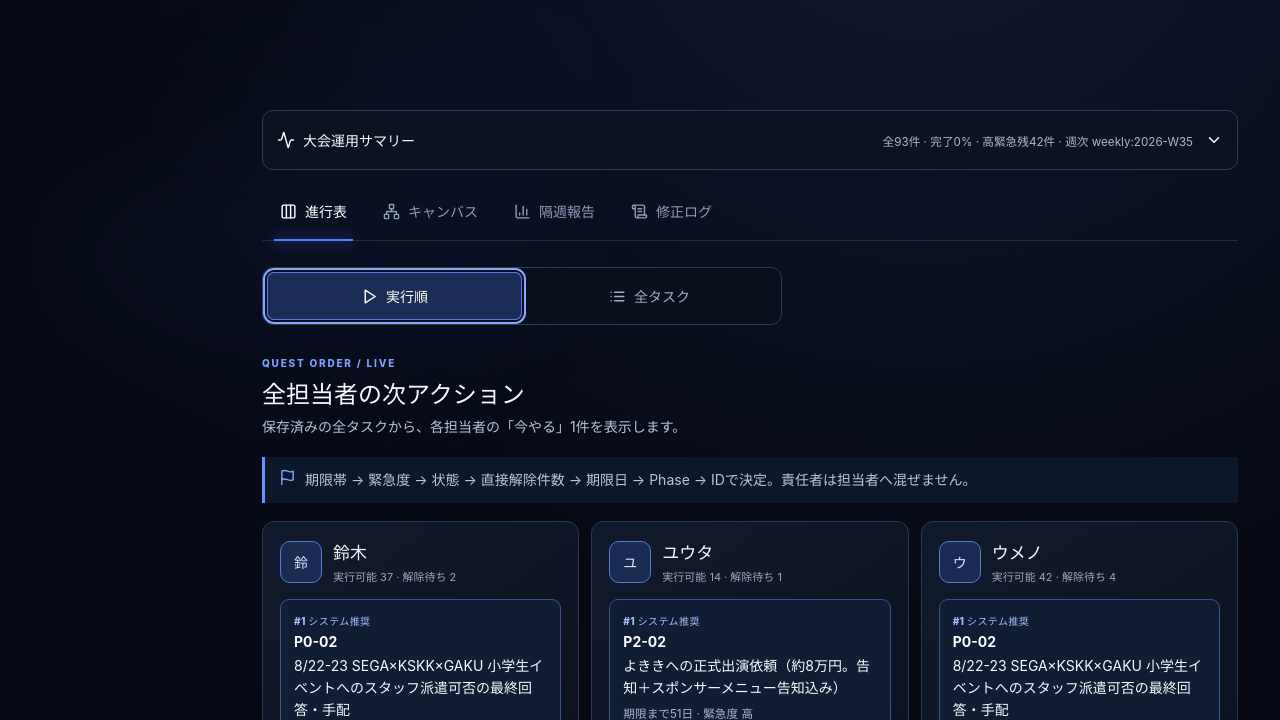
Test case: defaults to the derived quest overview and switches to the unchanged full task board without saving UI state
Check: the heading "全担当者の次アクション" is shown, box [262, 380, 525, 409]
Step 1. Press ArrowRight in the tab "実行順", box [267, 272, 522, 320]
(page scrolled)
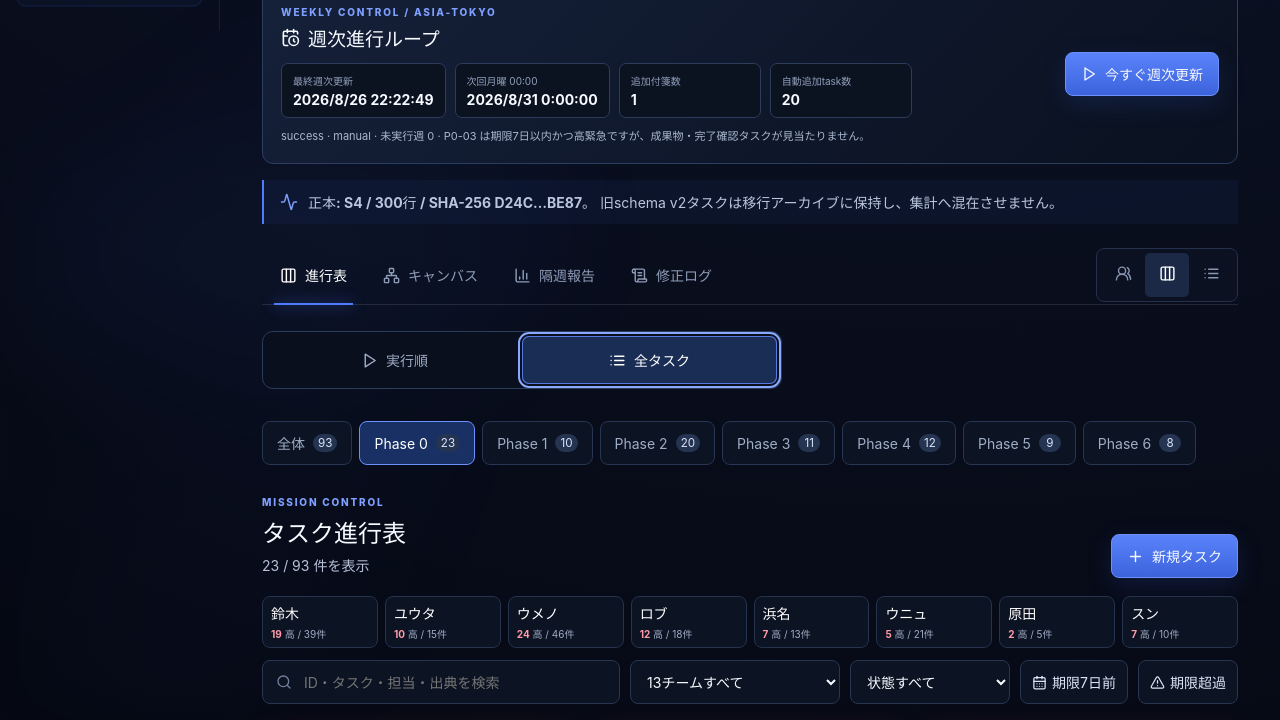
Check: the button "今すぐ週次更新" is enabled, box [1065, 52, 1219, 96]
Check: the heading "タスク進行表" is shown, box [262, 514, 406, 549]
Step 2. Click the tab "実行順" → (394, 360), box [267, 336, 522, 384]
(page scrolled)
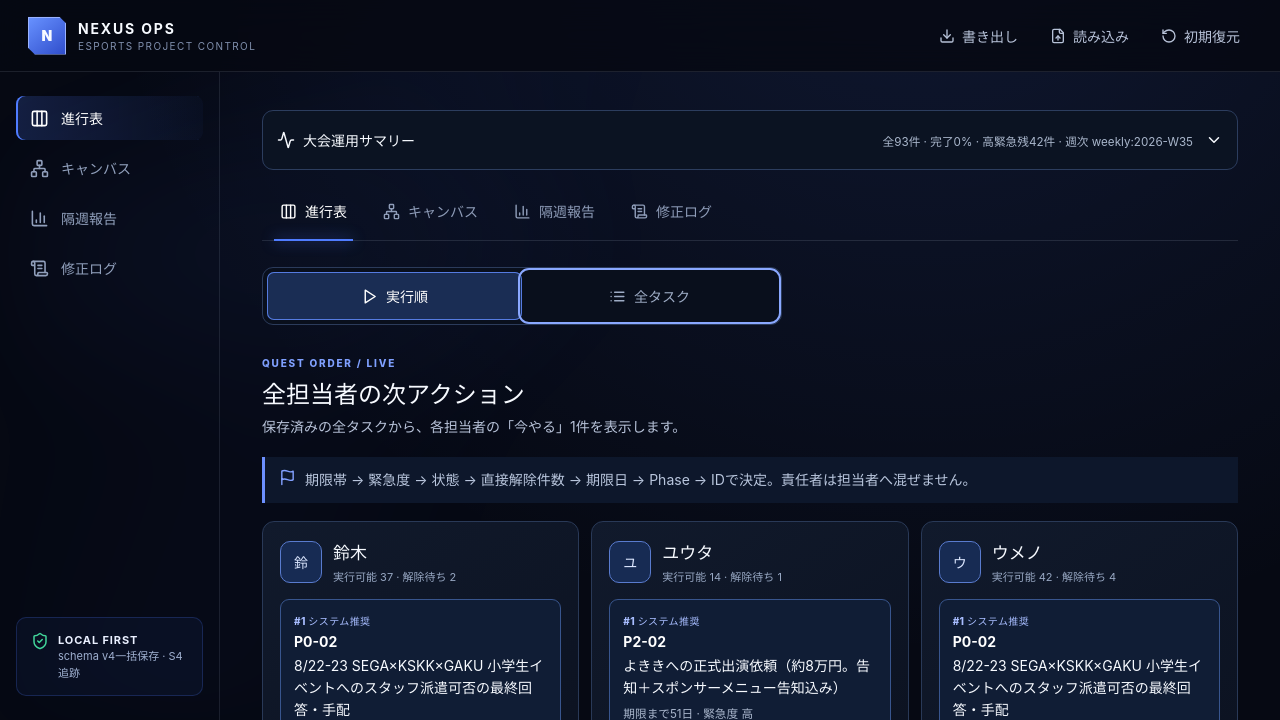
Check: the heading "全担当者の次アクション" is shown, box [262, 380, 525, 409]
